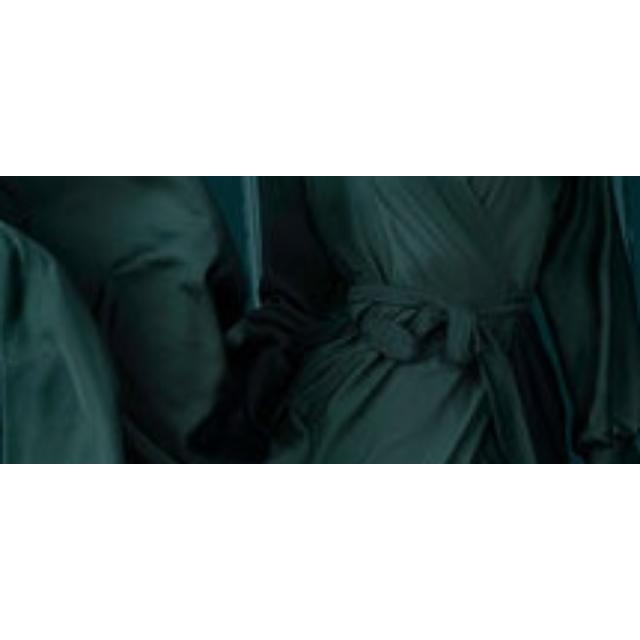silk: (0, 176, 640, 464)
